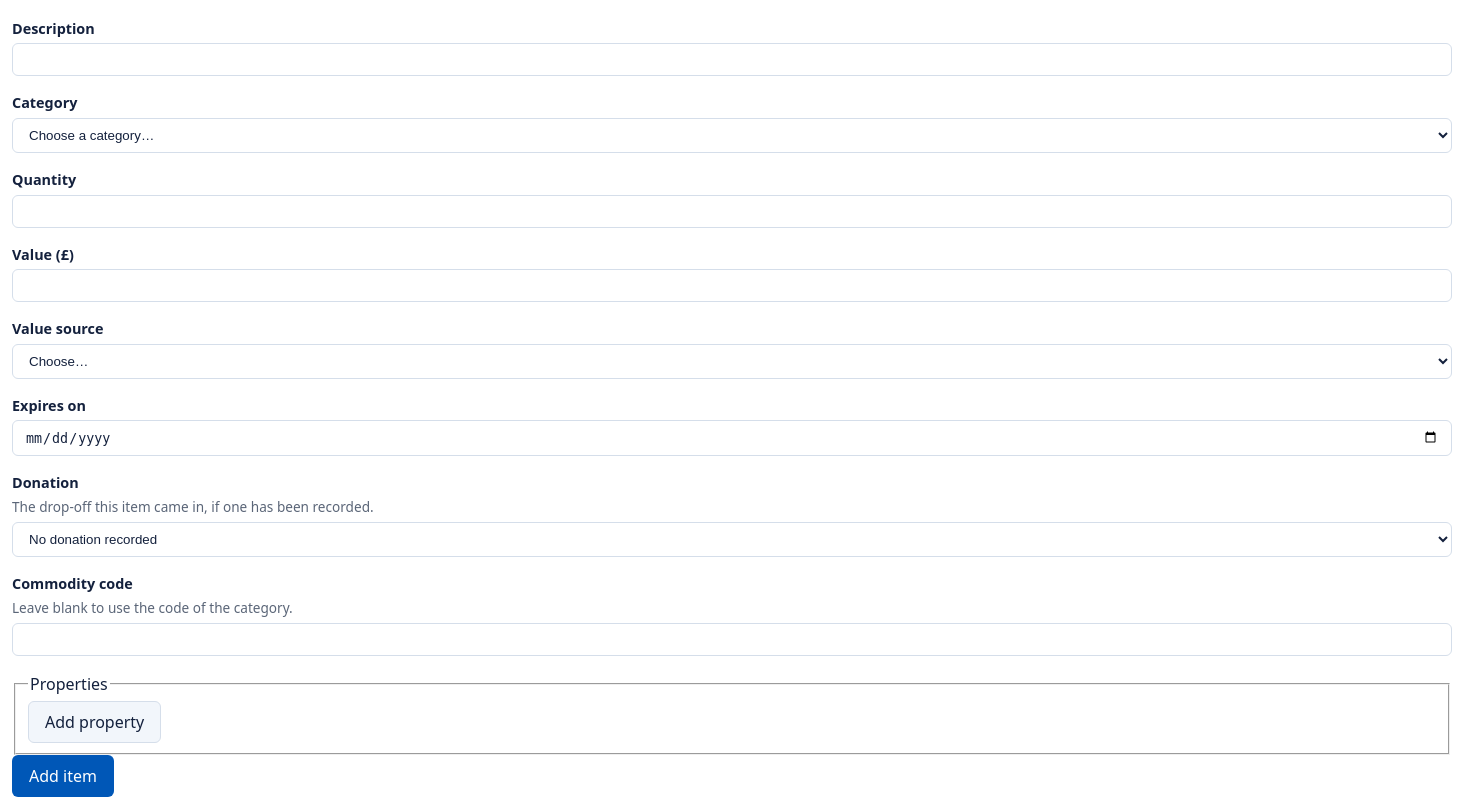
Test case: requires a description and a category
(page scrolled)
Click the button "Add item": (63, 776) [12, 755, 114, 796]
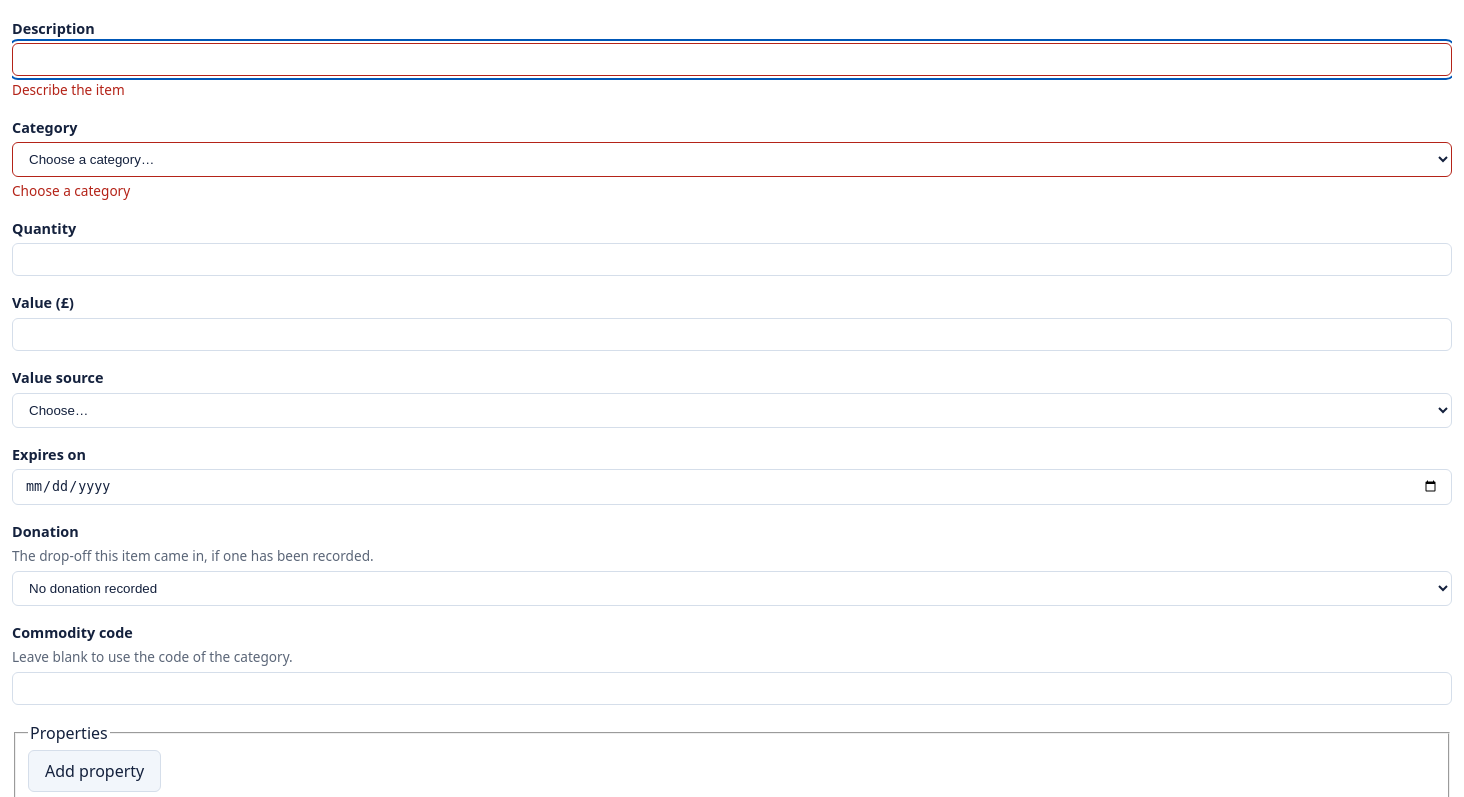
Check: the text "Describe the item" is shown, box [12, 80, 125, 99]
